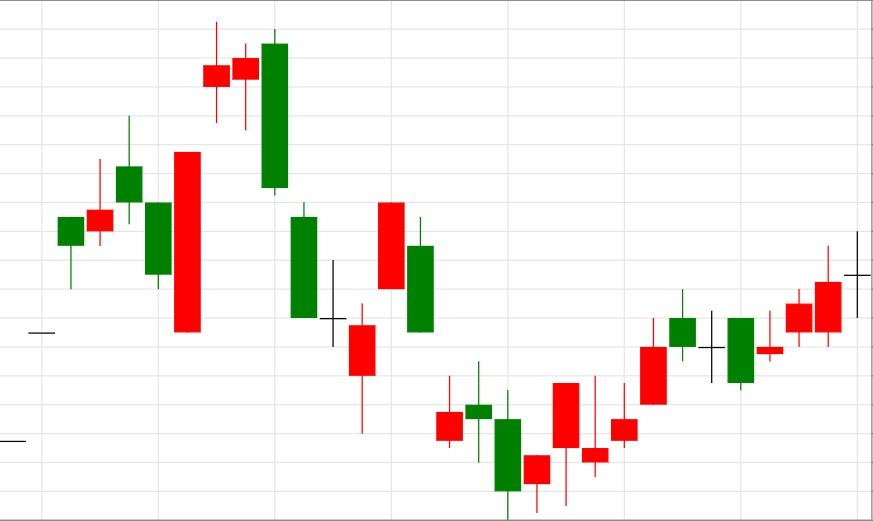bearish_engulfing_fall: (173, 22, 290, 333)
